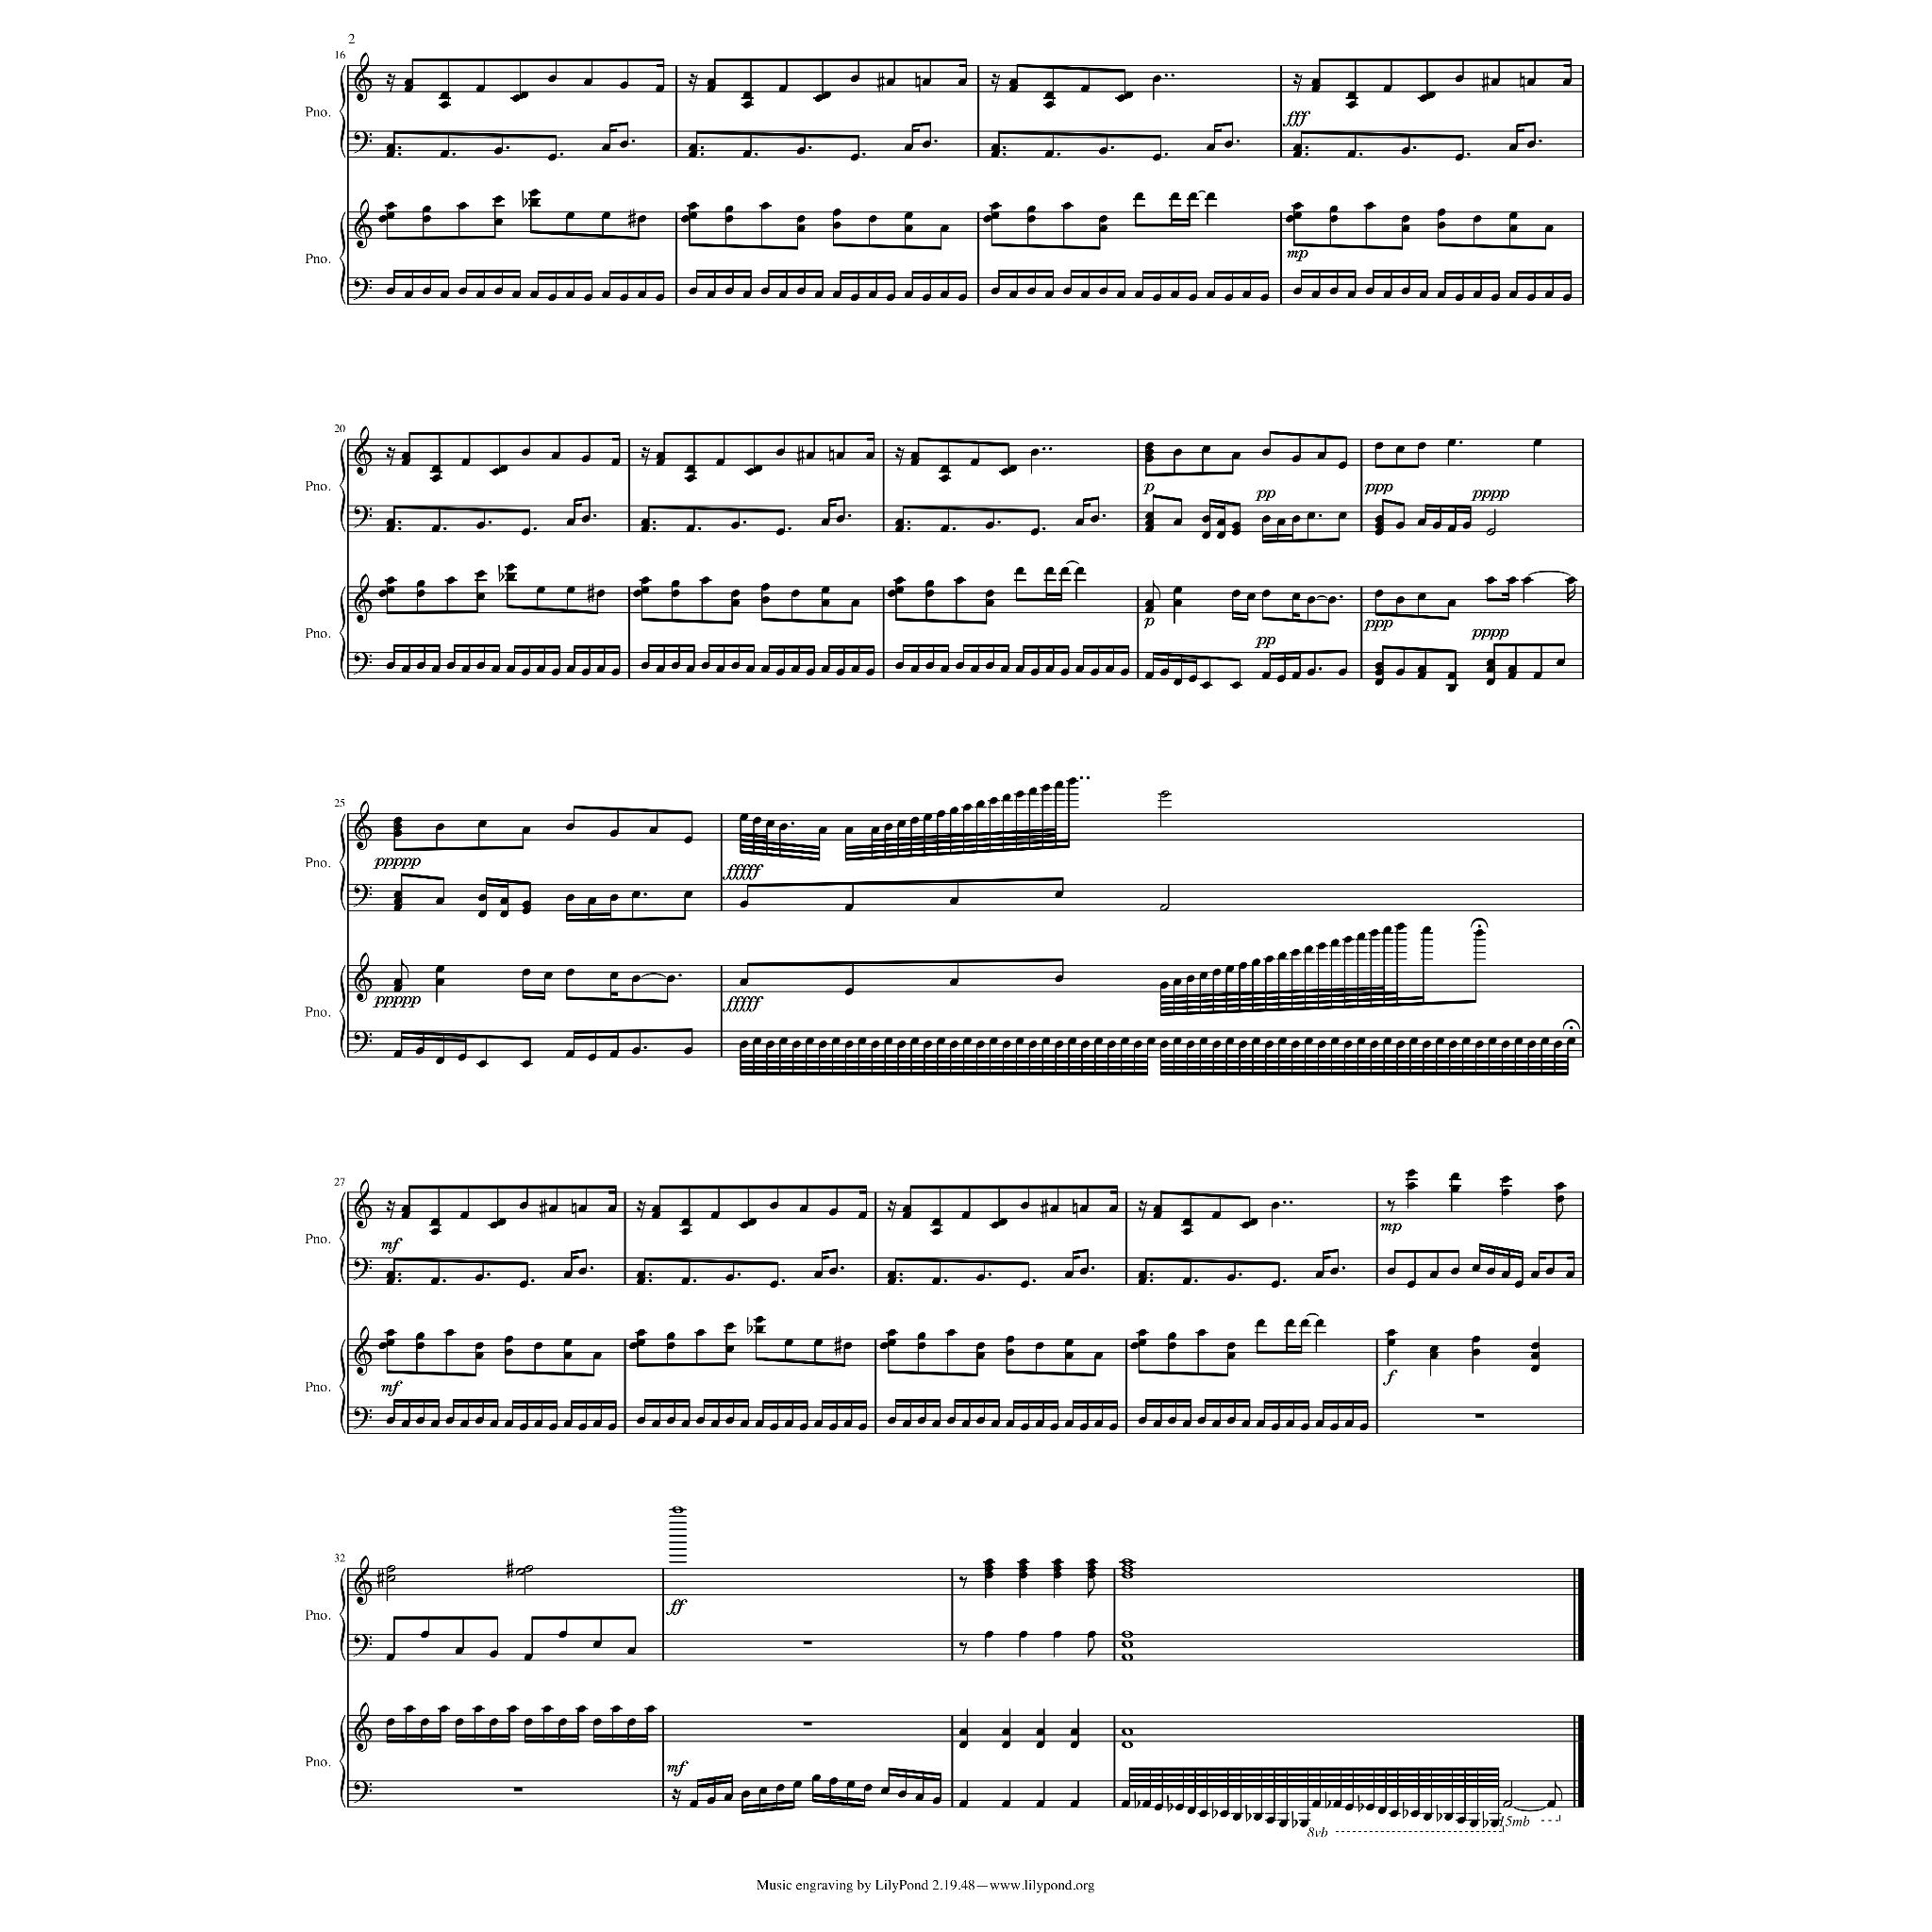brace: (338, 813, 345, 911), (338, 1338, 345, 1434), (338, 211, 345, 306), (338, 64, 345, 158), (338, 964, 345, 1058), (338, 587, 345, 679), (338, 440, 345, 532), (338, 1192, 345, 1285), (338, 1568, 345, 1660), (338, 1715, 345, 1807)
fClef: (352, 277, 371, 300), (352, 131, 371, 154), (352, 652, 371, 675), (352, 506, 371, 528), (352, 1031, 371, 1054), (352, 884, 371, 907), (352, 1407, 371, 1429), (352, 1257, 371, 1280), (352, 1634, 371, 1657), (352, 1781, 371, 1804)
flag16thDown: (1567, 583, 1574, 604)
flag8thDown: (1087, 1577, 1094, 1598), (1087, 1638, 1094, 1657), (1557, 1202, 1562, 1221)
flag8thUp: (1152, 580, 1159, 599), (401, 959, 408, 978), (1555, 1781, 1562, 1800)
gClef: (353, 198, 372, 249), (353, 951, 372, 1002), (353, 800, 372, 851), (353, 1555, 372, 1606), (353, 53, 372, 102), (353, 426, 372, 475), (353, 574, 372, 623), (353, 1179, 372, 1228), (353, 1326, 372, 1375), (353, 1702, 372, 1751)
noteheadBlack: (1170, 192, 1179, 200), (1170, 291, 1179, 298), (1206, 143, 1215, 151), (1206, 192, 1215, 200), (1206, 291, 1215, 298), (1134, 291, 1143, 298), (1134, 192, 1143, 200), (1292, 288, 1302, 295), (1292, 202, 1302, 209), (1292, 211, 1302, 219), (1292, 143, 1302, 151), (1292, 150, 1302, 158), (1241, 291, 1251, 298), (1098, 225, 1108, 232), (1098, 288, 1108, 295), (1098, 215, 1108, 223), (1098, 147, 1108, 155), (1079, 291, 1089, 298), (1079, 85, 1089, 92), (1062, 288, 1072, 295), (1062, 202, 1072, 209), (1543, 291, 1553, 298), (1543, 225, 1553, 232), (1472, 291, 1481, 298), (1472, 215, 1481, 223), (1507, 291, 1517, 298), (1507, 211, 1517, 219), (1507, 225, 1517, 232), (1507, 143, 1517, 151), (1364, 288, 1374, 295), (1364, 202, 1374, 209), (1328, 288, 1338, 295), (1328, 205, 1338, 212), (1328, 215, 1338, 223), (1436, 208, 1445, 216), (1436, 291, 1445, 298), (1436, 222, 1445, 229), (1400, 288, 1409, 295), (1400, 215, 1409, 223), (1400, 225, 1409, 232), (1400, 147, 1409, 155), (547, 293, 557, 301), (547, 154, 557, 161), (583, 293, 592, 301), (583, 78, 592, 86), (547, 75, 557, 82), (511, 291, 521, 298), (519, 92, 528, 99), (511, 94, 521, 102), (655, 293, 664, 301), (655, 85, 664, 92), (619, 293, 628, 301), (619, 141, 628, 148), (619, 81, 628, 89), (385, 288, 394, 295), (385, 202, 394, 209), (385, 211, 394, 219), (377, 215, 387, 223), (385, 143, 394, 151), (385, 150, 394, 158), (404, 291, 413, 298), (404, 78, 413, 86), (404, 85, 413, 92), (475, 291, 485, 298), (475, 85, 485, 92), (849, 293, 858, 301), (849, 154, 858, 161), (849, 75, 858, 82), (885, 293, 894, 301), (885, 78, 894, 86), (813, 291, 823, 298), (813, 94, 823, 102), (940, 291, 949, 298), (940, 225, 949, 232), (957, 293, 966, 301), (957, 78, 966, 86), (921, 293, 930, 301), (921, 141, 930, 148), (921, 78, 930, 86), (741, 101, 751, 108), (741, 92, 751, 99), (741, 150, 751, 158), (741, 291, 751, 298), (706, 85, 715, 92), (706, 78, 715, 86), (706, 291, 715, 298), (777, 85, 787, 92), (777, 291, 787, 298), (1260, 672, 1270, 679), (1260, 590, 1270, 597), (1260, 515, 1270, 523), (1260, 448, 1270, 456), (1275, 675, 1285, 682), (955, 576, 964, 584), (1275, 518, 1285, 525), (1008, 465, 1017, 473), (970, 665, 979, 673), (970, 458, 979, 466), (955, 662, 964, 670), (1532, 672, 1541, 679), (1532, 439, 1541, 446), (1485, 658, 1494, 666), (1485, 665, 1494, 673), (1485, 678, 1494, 686), (1485, 576, 1494, 584), (1566, 576, 1575, 584), (1326, 596, 1336, 604), (1374, 662, 1383, 670), (1374, 668, 1383, 675), (1374, 678, 1383, 686), (1374, 590, 1383, 597), (1374, 515, 1383, 523), (1374, 522, 1383, 529), (1374, 528, 1383, 536), (1374, 441, 1383, 449), (1291, 672, 1300, 679), (1291, 592, 1300, 600), (1291, 515, 1300, 523), (1306, 668, 1315, 675), (1306, 596, 1315, 604), (1306, 512, 1315, 520), (1291, 455, 1300, 462), (521, 668, 530, 675), (521, 528, 530, 536), (521, 448, 530, 456), (655, 665, 664, 673), (655, 452, 664, 459), (655, 458, 664, 466), (640, 525, 649, 532), (640, 662, 649, 670), (640, 576, 649, 584), (640, 586, 649, 593), (632, 590, 641, 597), (640, 518, 649, 525), (506, 665, 515, 673), (385, 662, 394, 670), (385, 576, 394, 584), (385, 586, 394, 593), (415, 662, 425, 670), (415, 579, 425, 587), (415, 590, 425, 597), (377, 590, 387, 597), (385, 518, 394, 525), (385, 525, 394, 532), (475, 662, 485, 670), (475, 570, 485, 577), (475, 592, 485, 600), (475, 522, 485, 529), (506, 563, 515, 571), (506, 574, 515, 581), (491, 665, 500, 673), (498, 465, 508, 473), (491, 468, 500, 475), (430, 665, 440, 673), (430, 525, 440, 532), (430, 465, 440, 473), (430, 475, 440, 482), (460, 665, 470, 673), (460, 458, 470, 466), (445, 662, 455, 670), (445, 576, 455, 584), (894, 662, 904, 670), (894, 576, 904, 584), (894, 586, 904, 593), (894, 518, 904, 525), (894, 525, 904, 532), (924, 579, 934, 587), (924, 662, 934, 670), (924, 590, 934, 597), (940, 665, 949, 673), (940, 525, 949, 532), (940, 465, 949, 473), (940, 475, 949, 482), (909, 665, 919, 673), (909, 452, 919, 459), (909, 458, 919, 466), (745, 665, 755, 673), (685, 525, 694, 532), (685, 665, 694, 673), (753, 465, 762, 473), (745, 468, 755, 475), (700, 662, 709, 670), (700, 576, 709, 584), (715, 665, 724, 673), (715, 458, 724, 466), (730, 662, 740, 670), (730, 590, 740, 597), (730, 599, 740, 607), (730, 522, 740, 529), (670, 662, 679, 670), (670, 590, 679, 597), (670, 579, 679, 587), (760, 665, 770, 673), (760, 583, 770, 591), (760, 596, 770, 604), (685, 475, 694, 482), (685, 465, 694, 473), (1172, 978, 1181, 986), (1172, 1037, 1181, 1044), (1158, 1041, 1168, 1048), (1158, 981, 1168, 989), (1238, 961, 1247, 969), (1238, 1041, 1247, 1048), (1224, 1037, 1234, 1044), (1224, 965, 1234, 973), (1251, 958, 1260, 966), (1251, 1037, 1260, 1044), (1185, 1041, 1194, 1048), (1198, 972, 1207, 979), (1198, 1037, 1207, 1044), (1185, 974, 1194, 982), (1211, 968, 1221, 975), (1211, 1041, 1221, 1048), (962, 1037, 972, 1044), (962, 804, 972, 811), (1474, 1041, 1483, 1048), (1474, 929, 1483, 937), (1500, 1041, 1509, 1048), (1513, 1037, 1523, 1044), (1460, 1037, 1470, 1044), (1487, 1037, 1496, 1044), (1447, 1041, 1457, 1048), (1553, 1041, 1562, 1048), (1540, 1037, 1549, 1044), (1526, 1041, 1536, 1048), (1566, 1037, 1575, 1044), (1264, 1041, 1274, 1048), (1264, 955, 1274, 962), (1277, 1037, 1287, 1044), (1277, 952, 1287, 959), (587, 897, 596, 905), (587, 1054, 596, 1061), (521, 1060, 530, 1068), (543, 972, 553, 979), (683, 1047, 692, 1055), (683, 891, 692, 898), (683, 836, 692, 843), (521, 968, 530, 975), (630, 1047, 640, 1055), (630, 974, 640, 982), (630, 891, 640, 898), (392, 816, 402, 824), (392, 1050, 402, 1058), (392, 978, 402, 986), (392, 985, 402, 992), (392, 891, 402, 898), (392, 897, 402, 905), (392, 904, 402, 911), (392, 823, 402, 830), (392, 829, 402, 837), (521, 900, 530, 908), (521, 907, 530, 914), (521, 826, 530, 834), (457, 1054, 466, 1061), (857, 1037, 866, 1044), (870, 1041, 879, 1048), (870, 826, 879, 834), (883, 1037, 892, 1044), (883, 823, 892, 830), (830, 1037, 840, 1044), (817, 1041, 826, 1048), (843, 1041, 853, 1048), (843, 988, 853, 995), (843, 904, 853, 911), (843, 826, 853, 834), (936, 1037, 945, 1044), (936, 809, 945, 817), (949, 1041, 958, 1048), (949, 978, 958, 986), (949, 897, 958, 905), (949, 807, 958, 814), (909, 816, 919, 824), (909, 1037, 919, 1044), (896, 1041, 906, 1048), (896, 820, 906, 827), (923, 813, 932, 821), (923, 1041, 932, 1048), (817, 826, 826, 834), (791, 1041, 800, 1048), (804, 1037, 813, 1044), (1181, 1420, 1191, 1427), (1181, 1277, 1191, 1285), (1181, 1218, 1191, 1225), (1181, 1227, 1191, 1235), (1196, 1417, 1206, 1424), (1196, 1328, 1206, 1336), (1211, 1211, 1221, 1219), (1211, 1420, 1221, 1427), (975, 1417, 985, 1424), (975, 1341, 985, 1349), (975, 1352, 985, 1359), (975, 1274, 985, 1281), (998, 1218, 1008, 1225), (960, 1420, 970, 1427), (960, 1211, 970, 1219), (1049, 1424, 1058, 1431), (1049, 1205, 1058, 1212), (1034, 1341, 1043, 1349), (1034, 1420, 1043, 1427), (1500, 1271, 1509, 1278), (1500, 1175, 1509, 1183), (1500, 1189, 1509, 1196), (1530, 1341, 1540, 1349), (1530, 1352, 1540, 1359), (1530, 1365, 1540, 1373), (1530, 1271, 1540, 1278), (1513, 1280, 1523, 1288), (1428, 1345, 1438, 1353), (1428, 1352, 1438, 1359), (1428, 1271, 1438, 1278), (1406, 1280, 1415, 1288), (1406, 1169, 1415, 1176), (1406, 1182, 1415, 1190), (1555, 1182, 1564, 1190), (1555, 1195, 1564, 1203), (1270, 1424, 1279, 1431), (1270, 1280, 1279, 1288), (1270, 1202, 1279, 1209), (1285, 1420, 1294, 1427), (1285, 1319, 1294, 1326), (1358, 1424, 1368, 1431), (1343, 1420, 1353, 1427), (547, 1424, 557, 1431), (547, 1205, 557, 1212), (577, 1205, 587, 1212), (562, 1420, 572, 1427), (562, 1339, 572, 1346), (562, 1352, 572, 1359), (562, 1271, 572, 1278), (504, 1420, 513, 1427), (504, 1335, 513, 1342), (504, 1348, 513, 1356), (577, 1267, 587, 1274), (636, 1417, 645, 1424), (636, 1328, 645, 1336), (636, 1339, 645, 1346), (636, 1271, 645, 1278), (636, 1277, 645, 1285), (577, 1424, 587, 1431), (385, 1417, 394, 1424), (385, 1328, 394, 1336), (385, 1339, 394, 1346), (377, 1341, 387, 1349), (385, 1271, 394, 1278), (400, 1420, 409, 1427), (385, 1277, 394, 1285), (400, 1205, 409, 1212), (400, 1211, 409, 1219), (415, 1341, 425, 1349), (474, 1417, 483, 1424), (474, 1341, 483, 1349), (474, 1352, 483, 1359), (474, 1274, 483, 1281), (489, 1420, 498, 1427), (496, 1218, 506, 1225), (489, 1221, 498, 1228), (415, 1417, 425, 1424), (415, 1332, 425, 1340), (813, 1420, 823, 1427), (813, 1339, 823, 1346), (813, 1271, 823, 1278), (798, 1424, 808, 1431), (798, 1205, 808, 1212), (902, 1211, 911, 1219), (902, 1420, 911, 1427), (902, 1205, 911, 1212), (724, 1417, 734, 1424), (724, 1322, 734, 1329), (724, 1345, 734, 1353), (724, 1274, 734, 1281), (709, 1420, 719, 1427), (709, 1211, 719, 1219), (651, 1420, 660, 1427), (651, 1205, 660, 1212), (651, 1211, 660, 1219), (740, 1420, 749, 1427), (747, 1218, 757, 1225), (740, 1221, 749, 1228), (1121, 1800, 1130, 1807), (1141, 1800, 1151, 1807), (1153, 1804, 1162, 1811), (1443, 1813, 1453, 1821), (1389, 1809, 1398, 1817), (1409, 1809, 1419, 1817), (1423, 1813, 1432, 1821), (1232, 1813, 1241, 1821), (1253, 1813, 1262, 1821), (1198, 1809, 1207, 1817), (1219, 1809, 1228, 1817), (1332, 1800, 1341, 1807), (1311, 1800, 1321, 1807), (523, 1654, 532, 1661), (523, 1718, 532, 1725), (508, 1705, 517, 1712), (489, 1718, 498, 1725), (489, 1650, 498, 1657), (626, 1647, 636, 1655), (626, 1718, 636, 1725), (541, 1705, 551, 1712), (385, 1654, 394, 1661), (385, 1718, 394, 1725), (404, 1705, 413, 1712), (811, 1774, 821, 1781), (828, 1777, 838, 1785), (845, 1780, 855, 1788), (862, 1784, 872, 1791), (792, 1780, 802, 1788), (958, 1740, 968, 1748), (958, 1728, 968, 1736), (958, 1800, 968, 1807), (879, 1787, 889, 1794), (689, 1800, 698, 1807), (706, 1797, 715, 1805), (723, 1793, 732, 1801), (645, 1705, 655, 1712), (1189, 293, 1196, 301), (1189, 192, 1196, 200), (1153, 154, 1160, 161), (1153, 75, 1160, 82), (1153, 293, 1160, 301), (1285, 215, 1292, 223), (1224, 293, 1232, 301), (1224, 141, 1232, 148), (1260, 293, 1268, 301), (1009, 291, 1017, 298), (1009, 78, 1017, 86), (1009, 85, 1017, 92), (1026, 288, 1034, 295), (1026, 205, 1034, 212), (1026, 215, 1034, 223), (991, 288, 998, 295), (991, 202, 998, 209), (991, 211, 998, 219), (983, 215, 991, 223), (991, 143, 998, 151), (991, 150, 998, 158), (1045, 101, 1053, 108), (1117, 291, 1124, 298), (1124, 92, 1132, 99), (1117, 94, 1124, 102), (1045, 291, 1053, 298), (1045, 150, 1053, 158), (1045, 92, 1053, 99), (1526, 293, 1534, 301), (1526, 141, 1534, 148), (1526, 78, 1534, 86), (1491, 293, 1498, 301), (1491, 78, 1498, 86), (1562, 293, 1570, 301), (1562, 78, 1570, 86), (1347, 291, 1355, 298), (1347, 150, 1355, 158), (1347, 92, 1355, 99), (1347, 101, 1355, 108), (1383, 85, 1391, 92), (1311, 291, 1319, 298), (1311, 78, 1319, 86), (1311, 85, 1319, 92), (1383, 291, 1391, 298), (1455, 293, 1462, 301), (1455, 154, 1462, 161), (1455, 75, 1462, 82), (1419, 291, 1426, 298), (1426, 92, 1434, 99), (1419, 94, 1426, 102), (566, 291, 574, 298), (566, 211, 574, 219), (530, 291, 538, 298), (530, 189, 538, 196), (530, 199, 538, 207), (638, 291, 645, 298), (638, 215, 645, 223), (689, 288, 696, 295), (689, 202, 696, 209), (689, 211, 696, 219), (681, 215, 689, 223), (689, 143, 696, 151), (689, 150, 696, 158), (602, 291, 609, 298), (602, 211, 609, 219), (602, 143, 609, 151), (458, 288, 466, 295), (458, 202, 466, 209), (494, 218, 502, 225), (494, 288, 502, 295), (494, 195, 502, 203), (494, 147, 502, 155), (423, 288, 430, 295), (423, 205, 430, 212), (423, 215, 430, 223), (440, 291, 447, 298), (440, 150, 447, 158), (440, 92, 447, 99), (440, 101, 447, 108), (868, 291, 875, 298), (868, 215, 875, 223), (823, 92, 830, 99), (832, 222, 840, 229), (832, 291, 840, 298), (832, 208, 840, 216), (904, 291, 911, 298), (904, 211, 911, 219), (904, 225, 911, 232), (904, 143, 911, 151), (724, 215, 732, 223), (724, 205, 732, 212), (724, 288, 732, 295), (796, 147, 804, 155), (796, 225, 804, 232), (796, 215, 804, 223), (796, 288, 804, 295), (760, 202, 768, 209), (760, 288, 768, 295), (1202, 445, 1209, 453), (1189, 675, 1196, 682), (1202, 531, 1209, 539), (1202, 515, 1209, 523), (1202, 681, 1209, 689), (1174, 678, 1181, 686), (1174, 586, 1181, 593), (1174, 599, 1181, 607), (1174, 518, 1181, 525), (1174, 448, 1181, 456), (1160, 668, 1168, 675), (1247, 592, 1255, 600), (1217, 531, 1224, 539), (1232, 590, 1240, 597), (1232, 522, 1240, 529), (1232, 528, 1240, 536), (1232, 452, 1240, 459), (1217, 518, 1224, 525), (1232, 681, 1240, 689), (1015, 665, 1023, 673), (1015, 567, 1023, 575), (1000, 665, 1008, 673), (1000, 468, 1008, 475), (1030, 668, 1038, 675), (1030, 528, 1038, 536), (1030, 448, 1038, 456), (985, 662, 992, 670), (985, 590, 992, 597), (985, 599, 992, 607), (985, 522, 992, 529), (1121, 668, 1128, 675), (1106, 665, 1113, 673), (1091, 668, 1098, 675), (1145, 599, 1153, 607), (1145, 672, 1153, 679), (1091, 515, 1098, 523), (1145, 606, 1153, 613), (1145, 512, 1153, 520), (1145, 518, 1153, 525), (1145, 525, 1153, 532), (1145, 441, 1153, 449), (1145, 448, 1153, 456), (1145, 455, 1153, 462), (1060, 668, 1068, 675), (1060, 567, 1068, 575), (1045, 665, 1053, 673), (1045, 567, 1053, 575), (1075, 665, 1083, 673), (1075, 567, 1083, 575), (1075, 518, 1083, 525), (1507, 665, 1515, 673), (1507, 672, 1515, 679), (1507, 576, 1515, 584), (1523, 576, 1530, 584), (1447, 672, 1455, 679), (1447, 685, 1455, 692), (1447, 599, 1455, 607), (1447, 525, 1455, 532), (1447, 439, 1455, 446), (1432, 522, 1440, 529), (1462, 522, 1470, 529), (1557, 658, 1564, 666), (1338, 668, 1345, 675), (1338, 512, 1345, 520), (1338, 461, 1345, 469), (1317, 452, 1324, 459), (1417, 518, 1424, 525), (1417, 441, 1424, 449), (1417, 592, 1424, 600), (1417, 665, 1424, 673), (1417, 672, 1424, 679), (1396, 668, 1404, 675), (1396, 596, 1404, 604), (1396, 522, 1404, 529), (1396, 445, 1404, 453), (566, 665, 574, 673), (566, 586, 574, 593), (566, 518, 574, 525), (551, 668, 558, 675), (551, 452, 558, 459), (581, 668, 589, 675), (581, 515, 589, 523), (581, 455, 589, 462), (536, 586, 543, 593), (536, 665, 543, 673), (611, 668, 619, 675), (611, 458, 619, 466), (596, 665, 604, 673), (596, 590, 604, 597), (402, 665, 409, 673), (402, 452, 409, 459), (402, 458, 409, 466), (851, 665, 858, 673), (851, 599, 858, 607), (887, 590, 894, 597), (866, 668, 874, 675), (866, 452, 874, 459), (821, 586, 828, 593), (821, 599, 828, 607), (821, 518, 828, 525), (806, 668, 813, 675), (806, 452, 813, 459), (836, 668, 843, 675), (836, 515, 843, 523), (836, 452, 843, 459), (821, 665, 828, 673), (791, 665, 798, 673), (791, 590, 798, 597), (775, 668, 783, 675), (775, 528, 783, 536), (775, 448, 783, 456), (1094, 1037, 1102, 1044), (1121, 1037, 1128, 1044), (1108, 1041, 1115, 1048), (1147, 1037, 1155, 1044), (1134, 1041, 1141, 1048), (1002, 1041, 1009, 1048), (1002, 793, 1009, 801), (989, 1037, 996, 1044), (1015, 1037, 1023, 1044), (1015, 791, 1023, 798), (989, 797, 996, 805), (975, 1041, 983, 1048), (975, 800, 983, 808), (1068, 1037, 1075, 1044), (1068, 777, 1075, 785), (1081, 1041, 1089, 1048), (1041, 1037, 1049, 1044), (1041, 784, 1049, 791), (1028, 1041, 1036, 1048), (1028, 787, 1036, 794), (1055, 780, 1062, 788), (1055, 1041, 1062, 1048), (1055, 974, 1062, 982), (1055, 891, 1062, 898), (1423, 1041, 1430, 1048), (1423, 925, 1430, 933), (1409, 1037, 1417, 1044), (1436, 1037, 1443, 1044), (1304, 1037, 1311, 1044), (1304, 945, 1311, 953), (1330, 939, 1338, 946), (1317, 1041, 1324, 1048), (1317, 942, 1324, 950), (1291, 1041, 1298, 1048), (1291, 949, 1298, 957), (1330, 1037, 1338, 1044), (1383, 1037, 1391, 1044), (1383, 925, 1391, 933), (1370, 1041, 1377, 1048), (1370, 929, 1377, 937), (1396, 1041, 1404, 1048), (1396, 923, 1404, 930), (1343, 1041, 1351, 1048), (1343, 936, 1351, 943), (1357, 932, 1364, 940), (1357, 1037, 1364, 1044), (609, 1050, 617, 1058), (609, 972, 617, 979), (609, 893, 617, 901), (609, 829, 617, 837), (566, 1050, 574, 1058), (566, 968, 574, 975), (566, 893, 574, 901), (566, 823, 574, 830), (666, 974, 674, 982), (649, 826, 657, 834), (477, 1060, 485, 1068), (477, 893, 485, 901), (477, 910, 485, 918), (477, 820, 485, 827), (500, 897, 508, 905), (500, 910, 508, 918), (436, 1057, 443, 1064), (436, 965, 443, 973), (436, 978, 443, 986), (436, 897, 443, 905), (436, 823, 443, 830), (415, 1047, 423, 1055), (766, 820, 774, 827), (766, 1041, 774, 1048), (753, 816, 760, 824), (753, 1037, 760, 1044), (740, 1041, 747, 1048), (740, 978, 747, 986), (740, 900, 747, 908), (740, 813, 747, 821), (779, 823, 787, 830), (779, 1037, 787, 1044), (1138, 1328, 1145, 1336), (1138, 1417, 1145, 1424), (1138, 1339, 1145, 1346), (1130, 1341, 1138, 1349), (1138, 1271, 1145, 1278), (1138, 1277, 1145, 1285), (1094, 1420, 1102, 1427), (1094, 1352, 1102, 1359), (1109, 1424, 1117, 1431), (1109, 1205, 1117, 1212), (1153, 1420, 1160, 1427), (1153, 1205, 1160, 1212), (1153, 1211, 1160, 1219), (1168, 1332, 1175, 1340), (1168, 1417, 1175, 1424), (1168, 1341, 1175, 1349), (1006, 1335, 1013, 1342), (1006, 1348, 1013, 1356), (991, 1420, 998, 1427), (991, 1221, 998, 1228), (932, 1420, 940, 1427), (932, 1277, 940, 1285), (932, 1218, 940, 1225), (932, 1227, 940, 1235), (1006, 1420, 1013, 1427), (947, 1417, 955, 1424), (947, 1328, 955, 1336), (1064, 1420, 1072, 1427), (1064, 1339, 1072, 1346), (1064, 1352, 1072, 1359), (1064, 1271, 1072, 1278), (1079, 1424, 1087, 1431), (1079, 1267, 1087, 1274), (1079, 1205, 1087, 1212), (1021, 1424, 1028, 1431), (1021, 1280, 1028, 1288), (1021, 1202, 1028, 1209), (1487, 1267, 1494, 1274), (1472, 1335, 1479, 1342), (1472, 1348, 1479, 1356), (1472, 1264, 1479, 1272), (1451, 1267, 1458, 1274), (1451, 1173, 1458, 1180), (1451, 1186, 1458, 1193), (1566, 1271, 1574, 1278), (1545, 1267, 1553, 1274), (1300, 1424, 1307, 1431), (1300, 1319, 1307, 1326), (1226, 1417, 1234, 1424), (1226, 1341, 1234, 1349), (1226, 1352, 1234, 1359), (1226, 1274, 1234, 1281), (1257, 1420, 1264, 1427), (1257, 1319, 1264, 1326), (1241, 1420, 1249, 1427), (1249, 1218, 1257, 1225), (1241, 1221, 1249, 1228), (1387, 1339, 1394, 1346), (1387, 1328, 1394, 1336), (1387, 1267, 1394, 1274), (1315, 1420, 1323, 1427), (1315, 1319, 1323, 1326), (1315, 1271, 1323, 1278), (1330, 1424, 1338, 1431), (1330, 1267, 1338, 1274), (519, 1280, 526, 1288), (519, 1202, 526, 1209), (519, 1424, 526, 1431), (534, 1420, 541, 1427), (534, 1341, 541, 1349), (628, 1341, 636, 1349), (592, 1352, 600, 1359), (592, 1420, 600, 1427), (608, 1424, 615, 1431), (608, 1205, 615, 1212), (460, 1420, 468, 1427), (460, 1211, 468, 1219), (430, 1420, 438, 1427), (430, 1277, 438, 1285), (430, 1218, 438, 1225), (430, 1227, 438, 1235), (445, 1417, 453, 1424), (445, 1328, 453, 1336), (828, 1424, 836, 1431), (828, 1267, 836, 1274), (828, 1208, 836, 1216), (843, 1420, 851, 1427), (843, 1341, 851, 1349), (785, 1420, 792, 1427), (785, 1339, 792, 1346), (917, 1417, 924, 1424), (917, 1332, 924, 1340), (917, 1341, 924, 1349), (887, 1339, 894, 1346), (879, 1341, 887, 1349), (887, 1271, 894, 1278), (887, 1277, 894, 1285), (887, 1328, 894, 1336), (858, 1424, 866, 1431), (858, 1211, 866, 1219), (887, 1417, 894, 1424), (696, 1417, 704, 1424), (696, 1328, 704, 1336), (666, 1341, 674, 1349), (666, 1332, 674, 1340), (681, 1420, 689, 1427), (681, 1277, 689, 1285), (681, 1218, 689, 1225), (681, 1227, 689, 1235), (666, 1417, 674, 1424), (755, 1420, 762, 1427), (755, 1315, 762, 1323), (755, 1325, 762, 1333), (770, 1424, 777, 1431), (770, 1280, 777, 1288), (770, 1202, 777, 1209), (1087, 1572, 1094, 1579), (1087, 1565, 1094, 1573), (1087, 1558, 1094, 1566), (1087, 1630, 1094, 1638), (985, 1572, 992, 1579), (985, 1565, 992, 1573), (985, 1558, 992, 1566), (985, 1630, 992, 1638), (1002, 1740, 1009, 1748), (1002, 1728, 1009, 1736), (1002, 1800, 1009, 1807), (1053, 1572, 1060, 1579), (1053, 1565, 1060, 1573), (1053, 1558, 1060, 1566), (1053, 1630, 1060, 1638), (1070, 1740, 1077, 1748), (1070, 1728, 1077, 1736), (1070, 1800, 1077, 1807), (1175, 1804, 1183, 1811), (1019, 1572, 1026, 1579), (1019, 1565, 1026, 1573), (1019, 1558, 1026, 1566), (1019, 1630, 1026, 1638), (1036, 1740, 1043, 1748), (1036, 1728, 1043, 1736), (1036, 1800, 1043, 1807), (1457, 1816, 1464, 1824), (1470, 1820, 1477, 1827), (1491, 1820, 1498, 1827), (1547, 1800, 1555, 1807), (1266, 1816, 1274, 1824), (1187, 1807, 1194, 1814), (1345, 1804, 1353, 1811), (1366, 1804, 1374, 1811), (1377, 1807, 1385, 1814), (1279, 1820, 1287, 1827), (1300, 1820, 1307, 1827), (474, 1705, 481, 1712), (592, 1641, 600, 1648), (592, 1718, 600, 1725), (611, 1705, 619, 1712), (558, 1630, 566, 1638), (558, 1718, 566, 1725), (577, 1705, 585, 1712), (440, 1705, 447, 1712), (455, 1647, 462, 1655), (455, 1718, 462, 1725), (421, 1630, 428, 1638), (421, 1718, 428, 1725), (741, 1790, 749, 1798), (758, 1787, 766, 1794), (775, 1784, 783, 1791), (932, 1797, 940, 1805), (898, 1790, 906, 1798), (915, 1793, 923, 1801)
noteheadHalf: (1486, 528, 1495, 536), (1159, 904, 1169, 911), (1159, 791, 1169, 798), (1502, 1800, 1511, 1807), (515, 1568, 525, 1575), (524, 1565, 533, 1573), (386, 1574, 395, 1582), (386, 1565, 395, 1573)
noteheadWhole: (670, 1506, 683, 1513), (1121, 1630, 1132, 1638), (1121, 1740, 1132, 1748), (1121, 1728, 1132, 1736), (1121, 1654, 1132, 1661), (1121, 1641, 1132, 1648), (1121, 1572, 1132, 1579), (1121, 1565, 1132, 1573), (1121, 1558, 1132, 1566)
rest16th: (1292, 74, 1302, 92), (991, 74, 1000, 92), (688, 74, 697, 92), (385, 74, 394, 92), (640, 447, 649, 466), (385, 447, 394, 466), (894, 447, 904, 466), (1137, 1200, 1146, 1219), (636, 1200, 645, 1219), (385, 1200, 394, 1219), (887, 1200, 896, 1219), (671, 1789, 680, 1807)
rest8th: (1387, 1200, 1394, 1213), (958, 1575, 966, 1589), (958, 1641, 966, 1655)
restWhole: (1474, 1414, 1484, 1418), (802, 1641, 811, 1644), (802, 1722, 811, 1725), (512, 1788, 522, 1791)
